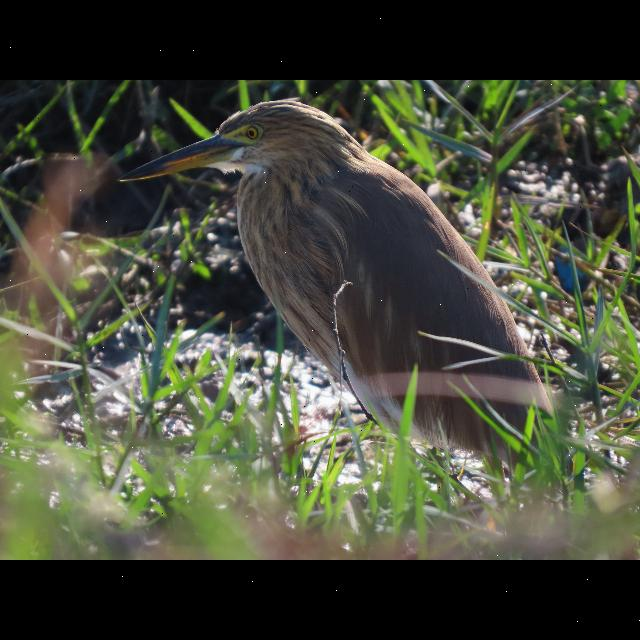heron: (115, 92, 558, 452)
